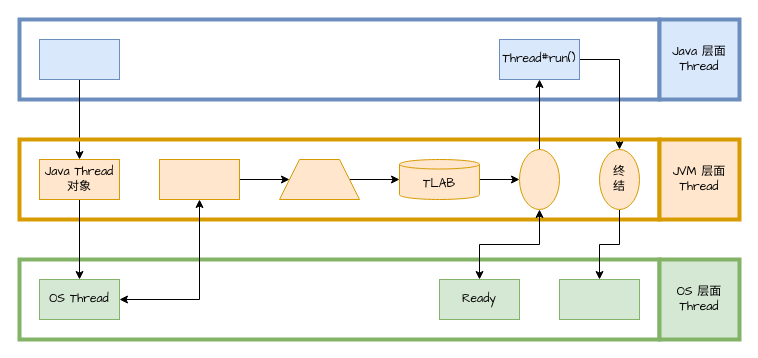
The diagram is 758 pixels wide and 358 high, and some of its shapes have lost their labels. Here are the shapes that lost their labels. From the top down, the centre of each, then its label:
At point (79, 59): "Thread#start()".
At point (199, 179): "OS Thread 对象".
At point (319, 179): "Stack".
At point (539, 179): "启 动".
At point (599, 299): "Terminate".
